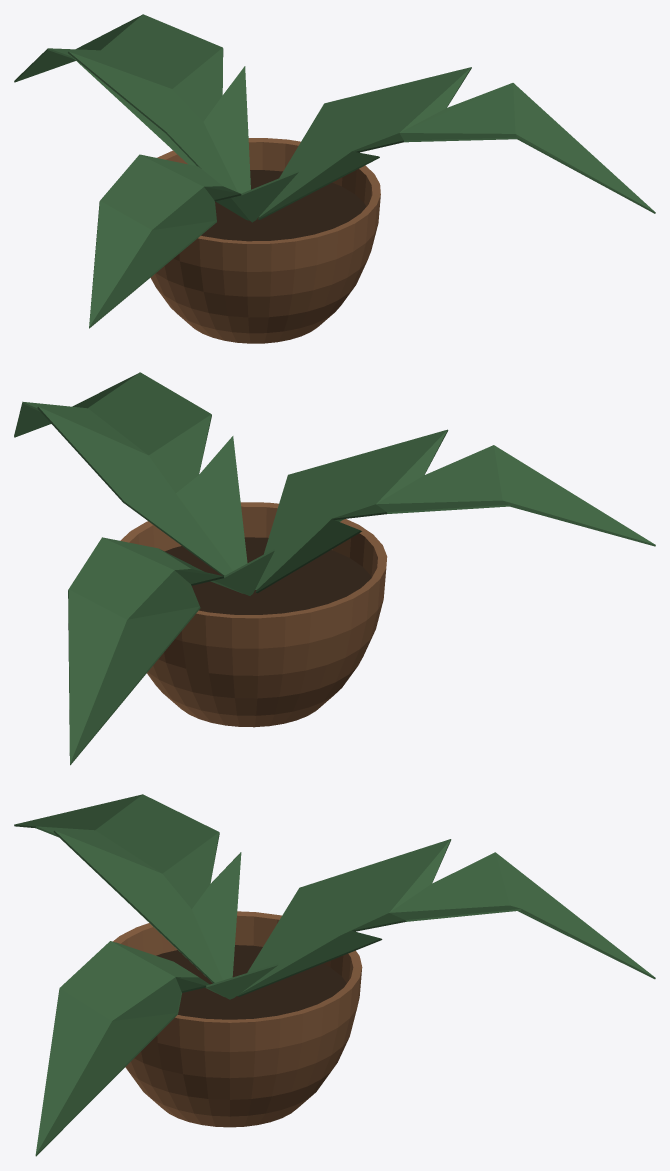
Rendered from Planta.fbx.
The picture shows the model from 3 angles, top to bottom: view 1: azimuth 30°, elevation 25°; view 2: azimuth 150°, elevation 25°; view 3: azimuth 270°, elevation 25°; orthographic projection. The views are drawn at different scales.
Parts seen in each view (by area): view 1: pLANTA ARRIBA.002; view 2: pLANTA ARRIBA.002; view 3: pLANTA ARRIBA.002.
Boxes of the visible parts, left/top/right/bottom form: pLANTA ARRIBA.002: left=14, top=14, right=655, bottom=343; pLANTA ARRIBA.002: left=14, top=372, right=655, bottom=765; pLANTA ARRIBA.002: left=14, top=794, right=655, bottom=1156.
Bounding box in the file's own units: 0.9364 × 0.3185 × 0.8589.
